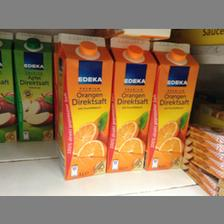Saft: (56, 32, 112, 180), (107, 34, 157, 174), (147, 40, 199, 170), (13, 29, 53, 141)
